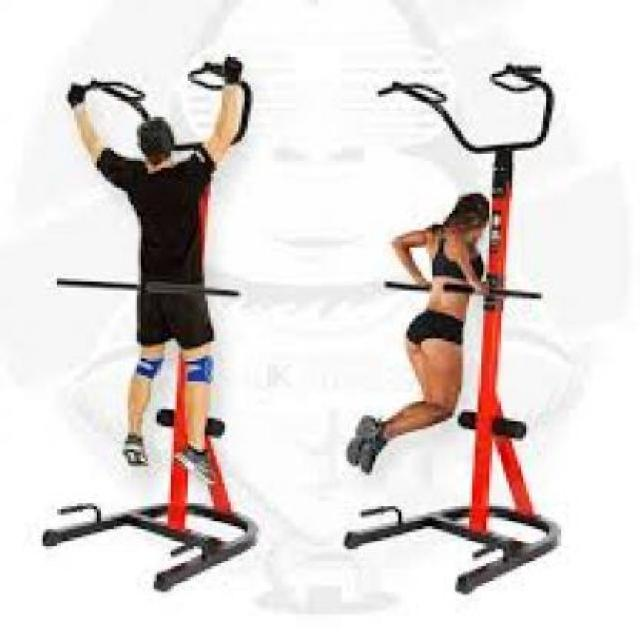chinning dipping: (345, 61, 563, 597), (45, 54, 262, 591)
